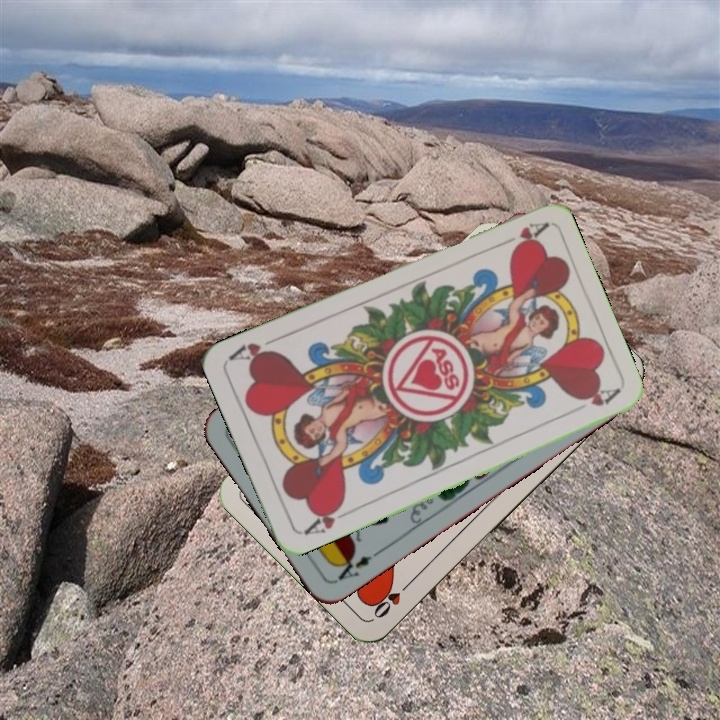EA: (329, 546, 383, 585)
HA: (299, 499, 355, 538), (492, 218, 549, 254)
HO: (369, 575, 416, 622)
